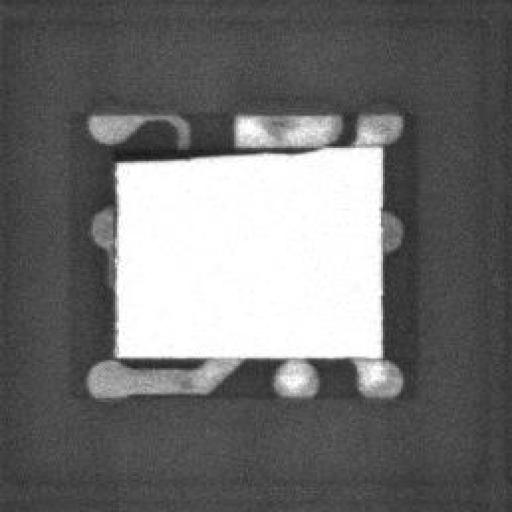DIE_BROKEN: (111, 146, 328, 163), (111, 146, 121, 349)
